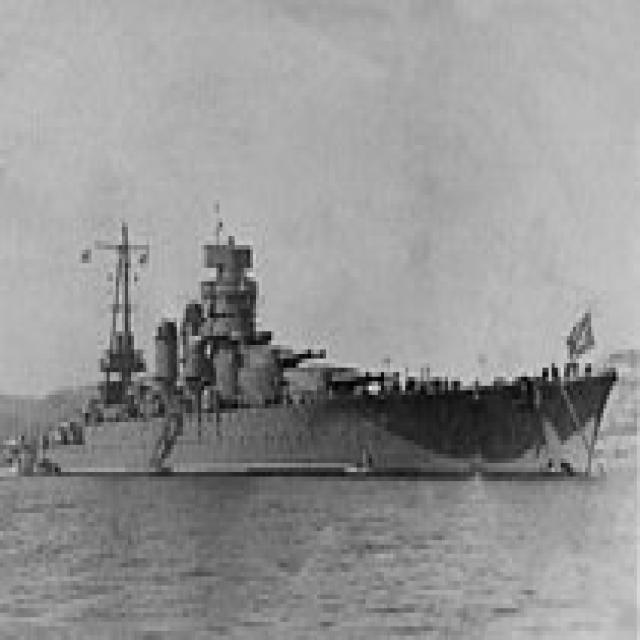boat: (46, 332, 625, 486)
